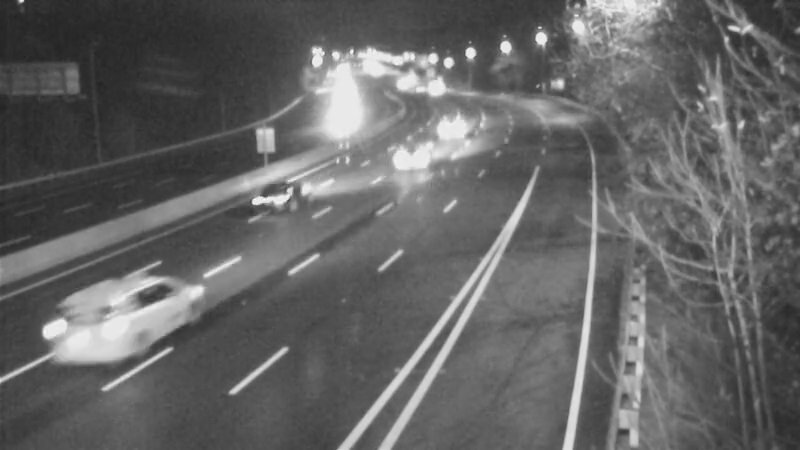vehicle: (30, 280, 140, 390), (370, 118, 450, 198), (236, 157, 316, 237), (412, 66, 462, 116), (425, 98, 475, 148)
